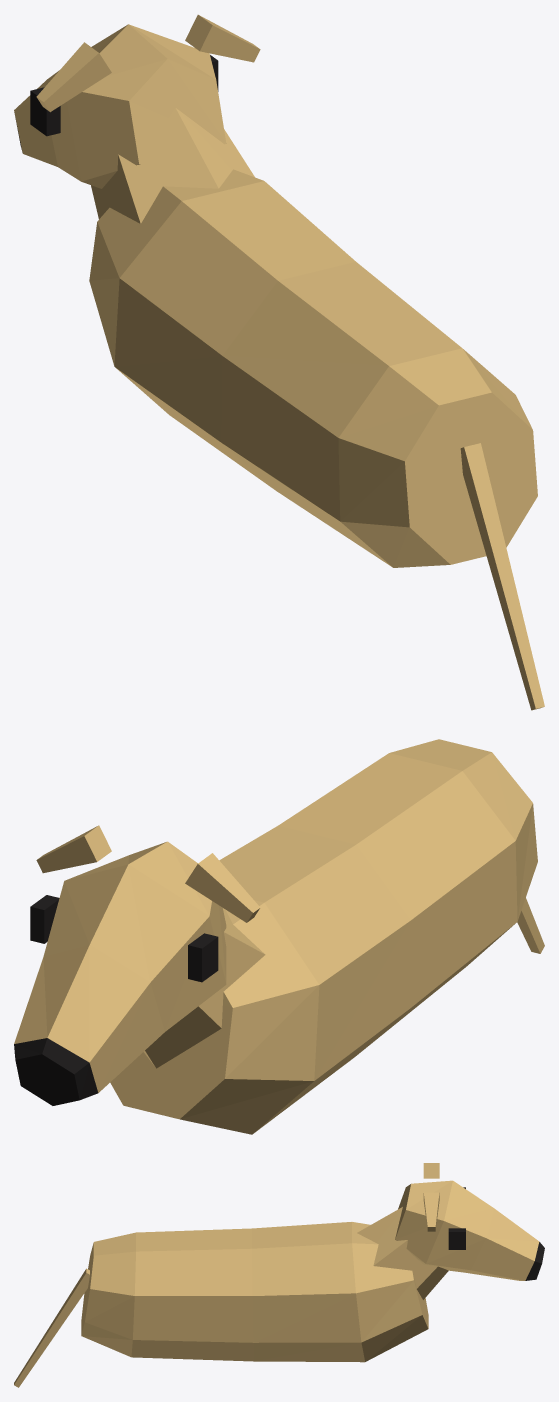
The model's file is animal_labrador.obj.
The picture shows the model from 3 angles, top to bottom: view 1: azimuth 30°, elevation 25°; view 2: azimuth 150°, elevation 25°; view 3: azimuth 270°, elevation 25°; orthographic projection. The views are drawn at different scales.
Parts seen in each view (by area): view 1: animal_labrador; view 2: animal_labrador; view 3: animal_labrador.
Boxes of the visible parts, <box> form: animal_labrador: <box>14,14,544,710</box>; animal_labrador: <box>14,739,544,1134</box>; animal_labrador: <box>14,1163,544,1387</box>.
Bounding box in the file's own units: 0.2742 × 0.474 × 1.09.
